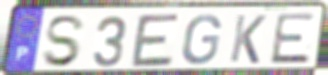3: (91, 14, 128, 68)
E: (129, 12, 183, 70), (268, 11, 318, 66)
G: (179, 13, 223, 66)
K: (227, 13, 268, 66)
S: (40, 14, 88, 70)
